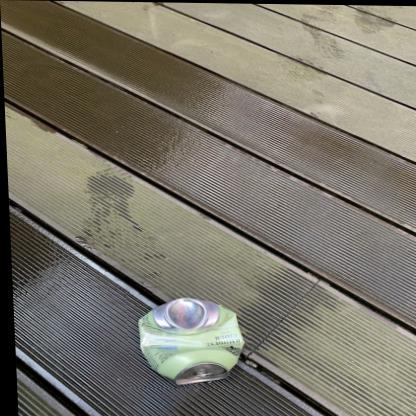trash: (139, 298, 243, 384)
